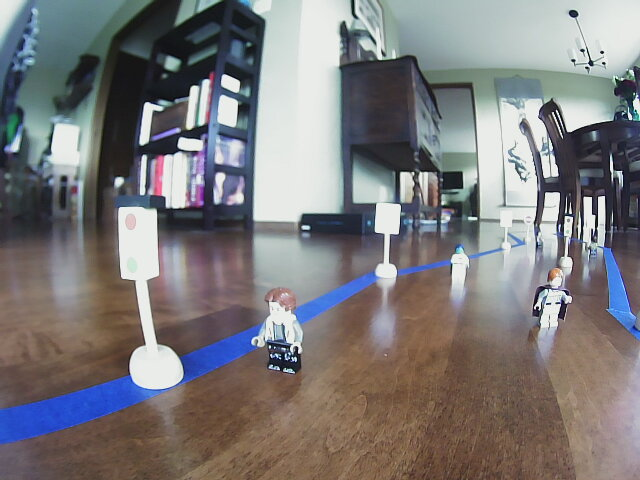SpeedLimit25: (375, 202, 398, 235), (499, 210, 511, 228)
StopSign: (523, 214, 535, 226)
TrafficLight: (117, 194, 159, 286), (561, 213, 574, 240)
person: (251, 286, 311, 375), (530, 266, 573, 335), (447, 240, 471, 291), (588, 234, 598, 259)
